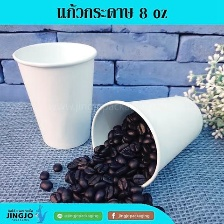paper_cup: (87, 89, 206, 191), (8, 37, 100, 152)
